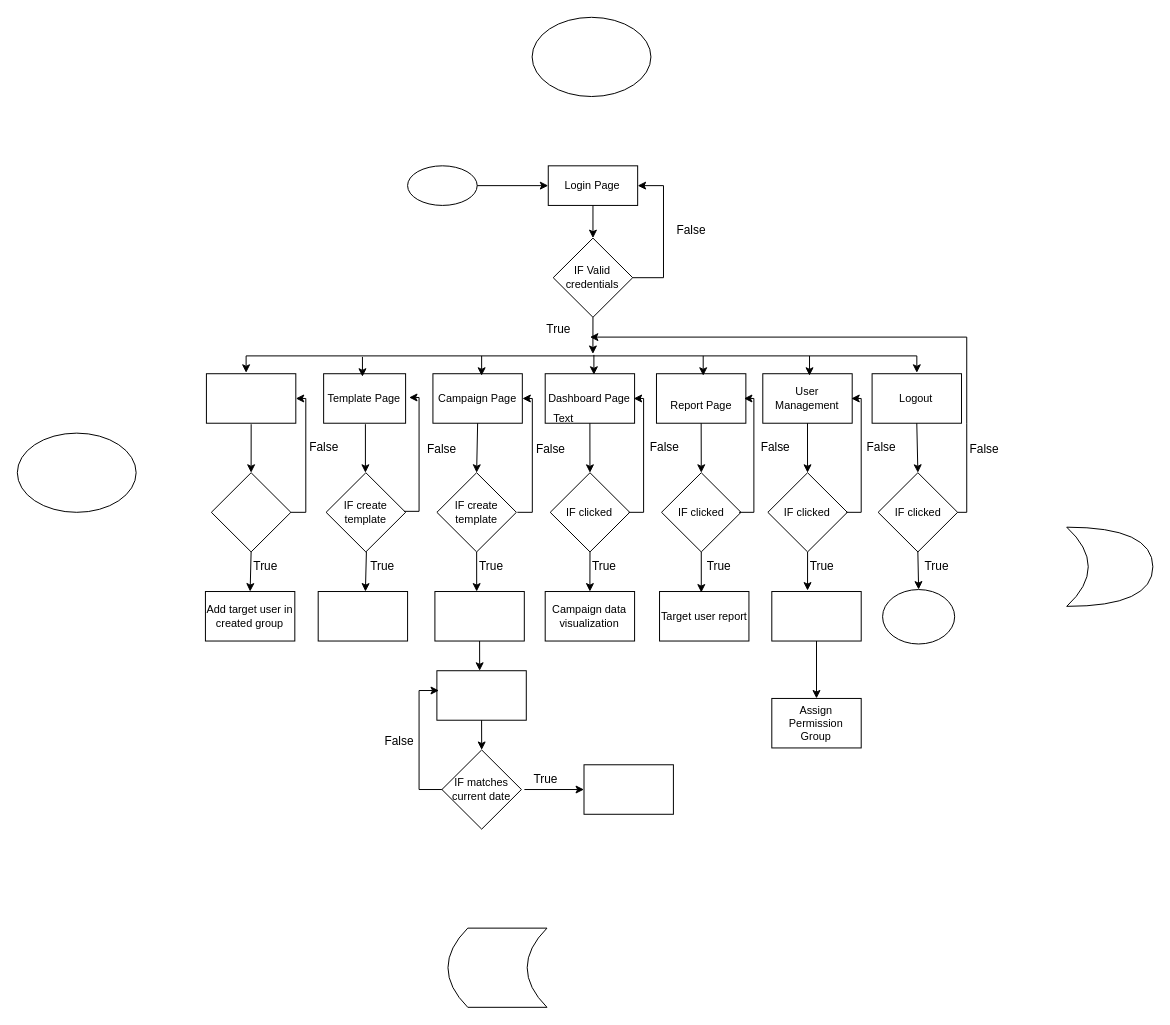
The diagram is 1170 pixels wide and 1025 high, and some of its shapes have lost their labels. The centre of each missing label's shape, as x and y in pixels:
Check schedule date: [481,695]
Create and send/schedule campaign: [479,616]
Create dynamic template: [362,616]
Create Staff User: [816,616]
End: [918,616]
IF create group: [250,512]
Send phishing email: [628,789]
Start: [442,185]
Target-user Group Page: [250,398]
